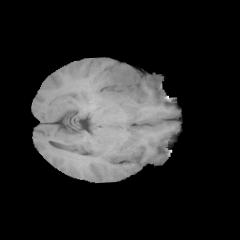glioma: (99, 62, 141, 96)
